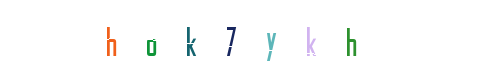7: (207, 0, 287, 80)
H: (70, 0, 150, 80), (254, 0, 334, 80)
K: (204, 0, 284, 80), (222, 0, 302, 80)
O: (168, 0, 248, 80)
Y: (221, 0, 301, 80)
